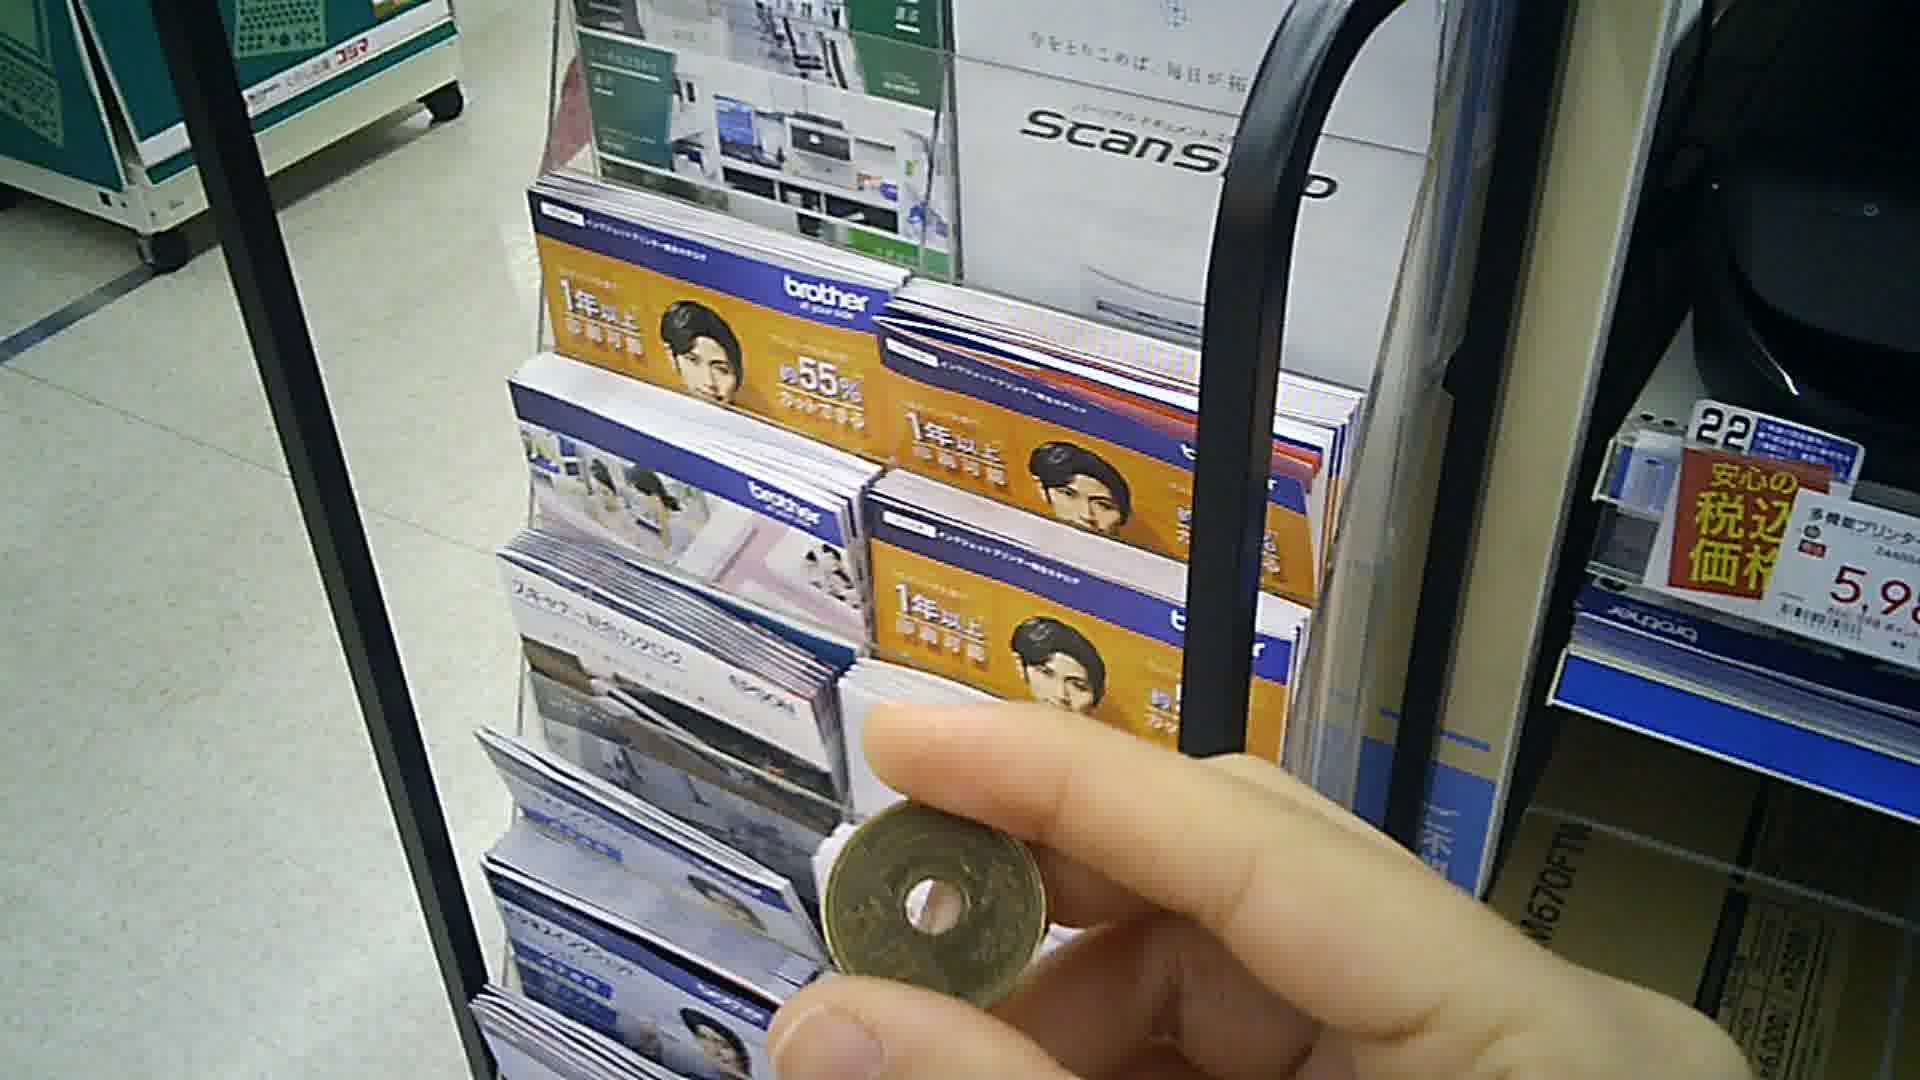5 Yen: (811, 800, 1067, 1004)
